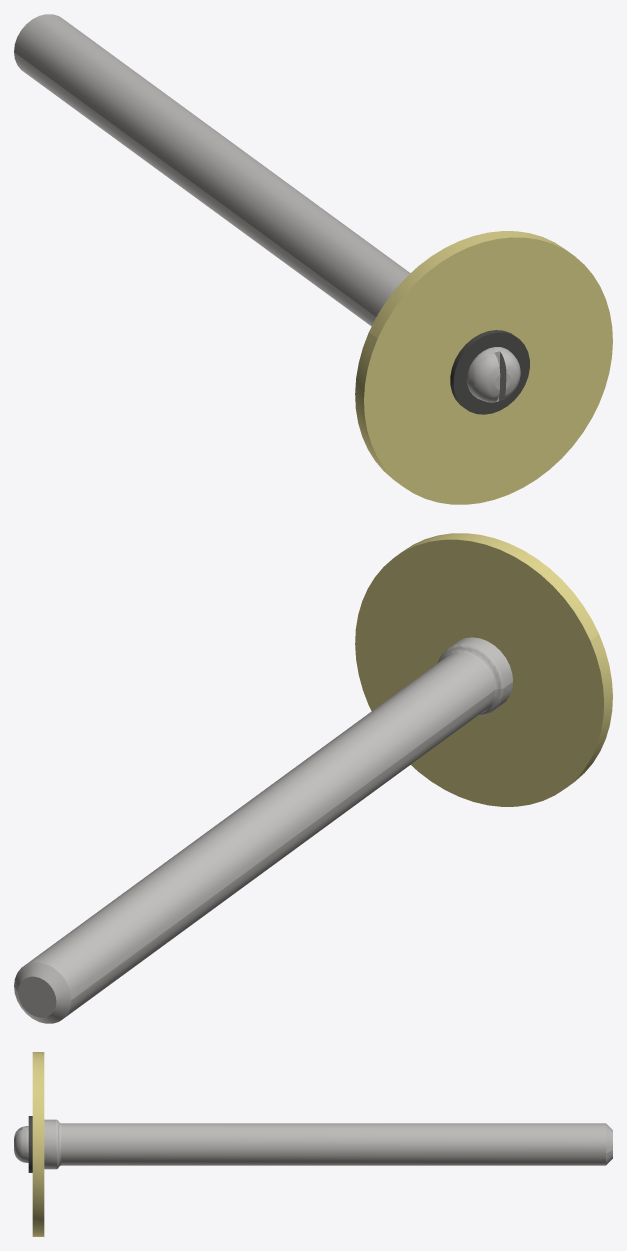
The picture shows the model from 3 angles, top to bottom: view 1: azimuth 30°, elevation 25°; view 2: azimuth 150°, elevation 25°; view 3: azimuth 270°, elevation 25°; orthographic projection. The views are drawn at different scales.
Bounding box in the file's own units: 13 × 12.98 × 42.12.
